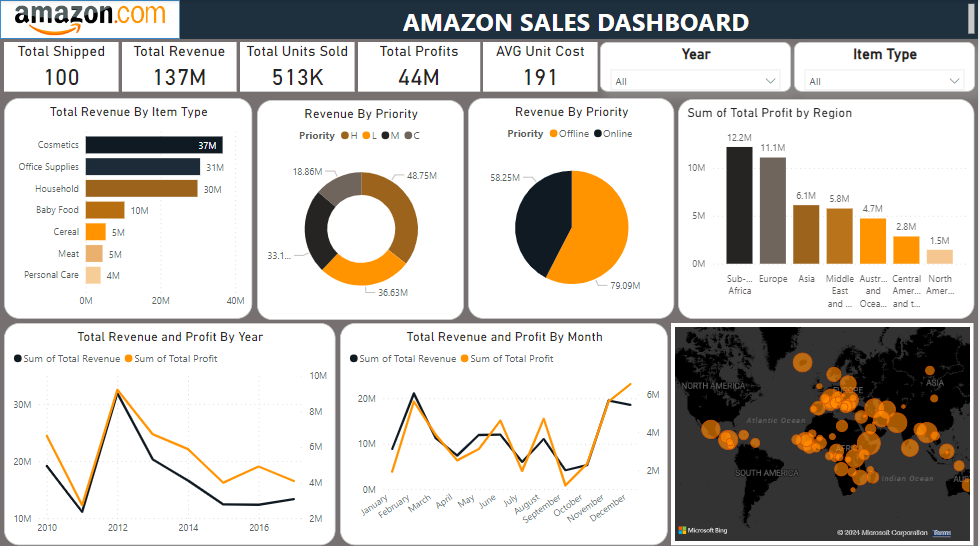

The dashboard page shown, as its layout file describes it:
{"tool":"powerbi","page":{"name":"Amazon Dashoard","canvas":[1280,720],"ordinal":0},"visuals":[{"type":"card","title":"Total Shipped","fields":{"Values":["Count(Amazon Sales data.Order ID)"]},"box":[5,55,150,64.7],"z":0},{"type":"shape","box":[0,0,235.4,50.9],"z":2},{"type":"image","box":[0,0,235.4,50.9],"z":3},{"type":"textbox","box":[235.4,0,1044.6,50.9],"z":5},{"type":"card","title":"Total Revenue","fields":{"Values":["Sum(Amazon Sales data.Total Revenue)"]},"box":[160,55,150,64.7],"z":6},{"type":"card","title":"Total Units Sold","fields":{"Values":["Sum(Amazon Sales data.Units Sold)"]},"box":[314,55,150,64.7],"z":7},{"type":"card","title":"Total Profits","fields":{"Values":["Sum(Amazon Sales data.Total Profit)"]},"box":[468,55,159.7,64.7],"z":8},{"type":"card","title":"AVG Unit Cost","fields":{"Values":["Avg(Amazon Sales data.Unit Cost)"]},"box":[632,55,150,64.7],"z":9},{"type":"slicer","title":"Year","fields":{"Values":["Amazon Sales data.Year"]},"box":[786,55,250,64.7],"z":10},{"type":"slicer","title":"Item Type","fields":{"Values":["Amazon Sales data.Item Type"]},"box":[1039,55.1,237,64.7],"z":11},{"type":"barChart","title":"Total Revenue By Item Type","fields":{"Category":["Amazon Sales data.Item Type"],"Y":["Sum(Amazon Sales data.Total Revenue)"]},"box":[5,128,324.8,289],"z":12},{"type":"lineChart","title":"Total Revenue and Profit By Year","fields":{"Category":["Amazon Sales data.Year"],"Y":["Sum(Amazon Sales data.Total Revenue)"],"Y2":["Sum(Amazon Sales data.Total Profit)"]},"box":[5.5,423,433.5,291],"z":14},{"type":"donutChart","title":"Revenue By Priority","fields":{"Category":["Amazon Sales data.Order Priority"],"Y":["Sum(Amazon Sales data.Total Revenue)"]},"box":[336,131,271,288],"z":15},{"type":"lineChart","title":"Total Revenue and Profit By Month","fields":{"Y":["Sum(Amazon Sales data.Total Revenue)"],"Y2":["Sum(Amazon Sales data.Total Profit)"],"Category":["Amazon Sales data.Ship Date.Variation.Date Hierarchy.Month"]},"box":[444.6,423,429.4,291],"z":16},{"type":"pieChart","title":"Revenue By Priority","fields":{"Y":["Sum(Amazon Sales data.Total Revenue)"],"Category":["Amazon Sales data.Sales Channel"]},"box":[612.5,128,269.8,289],"z":17},{"type":"map","fields":{"Category":["Amazon Sales data.Country"],"Size":["Sum(Amazon Sales data.Total Profit)"]},"box":[879,423,396,291],"z":18},{"type":"columnChart","fields":{"Category":["Amazon Sales data.Region"],"Y":["Sum(Amazon Sales data.Total Profit)"]},"box":[887.7,129.4,388.1,287.7],"z":19}]}

Visuals, with their boxes in screenshot pixels (x1, y1, x2, y2), scaled from the page's 1280x720 canvas onto the 980x546 screenshot:
"Total Shipped" card: locate(4, 42, 119, 91)
shape: locate(0, 0, 180, 39)
image: locate(0, 0, 180, 39)
textbox: locate(180, 0, 979, 39)
"Total Revenue" card: locate(122, 42, 237, 91)
"Total Units Sold" card: locate(240, 42, 355, 91)
"Total Profits" card: locate(358, 42, 481, 91)
"AVG Unit Cost" card: locate(484, 42, 599, 91)
"Year" slicer: locate(602, 42, 793, 91)
"Item Type" slicer: locate(795, 42, 977, 91)
"Total Revenue By Item Type" barChart: locate(4, 97, 253, 316)
"Total Revenue and Profit By Year" lineChart: locate(4, 321, 336, 541)
"Revenue By Priority" donutChart: locate(257, 99, 465, 318)
"Total Revenue and Profit By Month" lineChart: locate(340, 321, 669, 541)
"Revenue By Priority" pieChart: locate(469, 97, 676, 316)
map - Amazon Sales data.Country x Sum(Amazon Sales data.Total Profit): locate(673, 321, 976, 541)
columnChart - Amazon Sales data.Region x Sum(Amazon Sales data.Total Profit): locate(680, 98, 977, 316)
